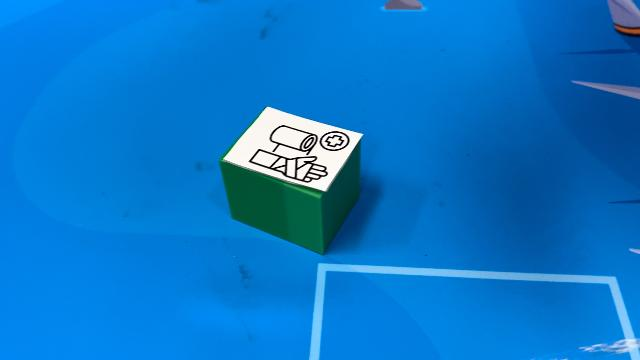bandage: (218, 103, 366, 255)
